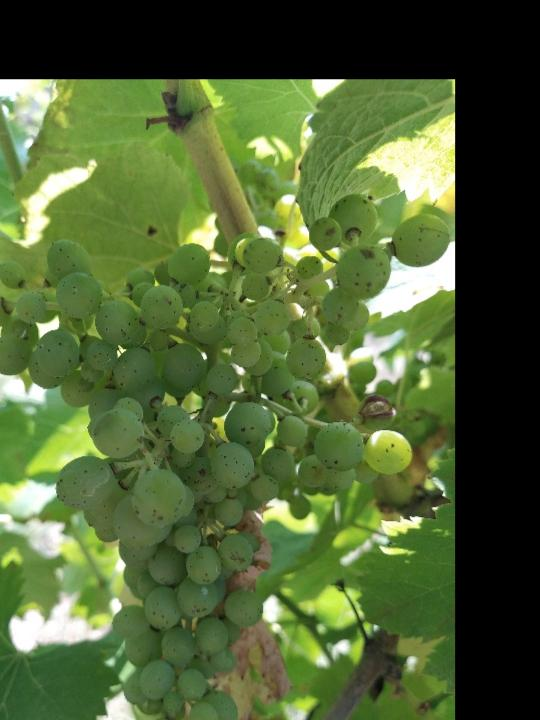grape: (0, 194, 453, 720)
